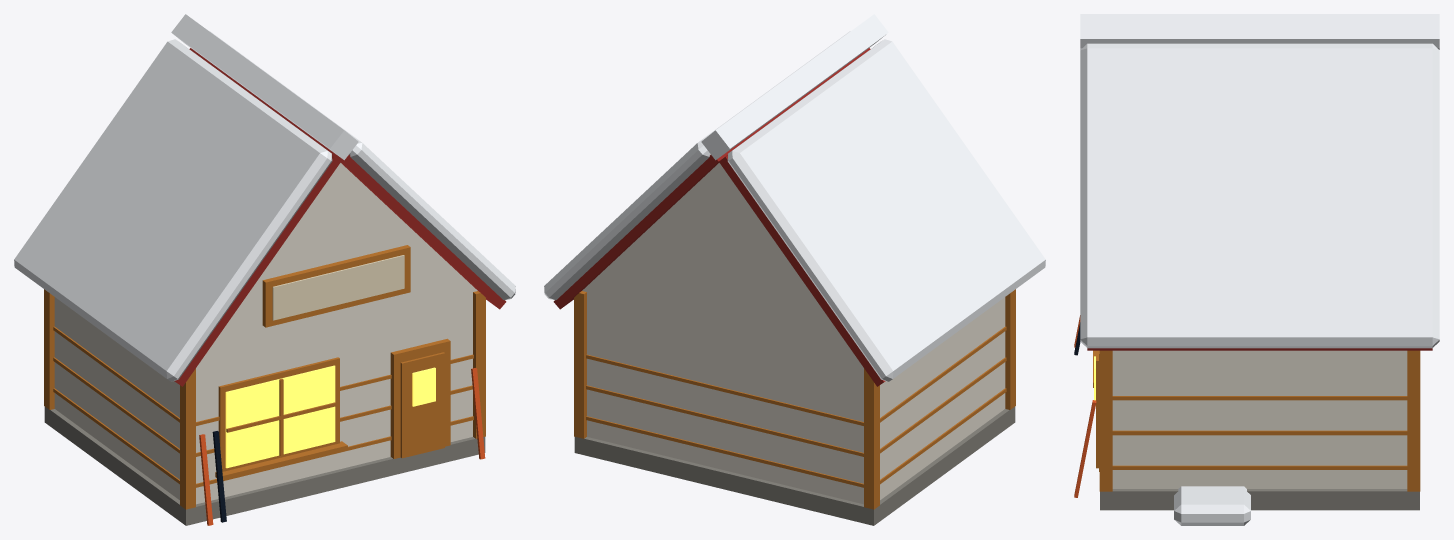
The model's file is ski-shop-sugarhouse.glb.
3 views of the same model, side by side, from view 1: azimuth 30°, elevation 25°; view 2: azimuth 150°, elevation 25°; view 3: azimuth 270°, elevation 25° (orthographic). The views are drawn at different scales.
Parts seen in each view (by area): view 1: ski-shop-sugarhouse; view 2: ski-shop-sugarhouse; view 3: ski-shop-sugarhouse.
Boxes of the visible parts, x1,y1,x2,y2 form: ski-shop-sugarhouse: (14, 14, 515, 525); ski-shop-sugarhouse: (544, 14, 1045, 525); ski-shop-sugarhouse: (1074, 14, 1439, 525).
Bounding box in the file's own units: 7.9 × 7.71 × 6.17.
